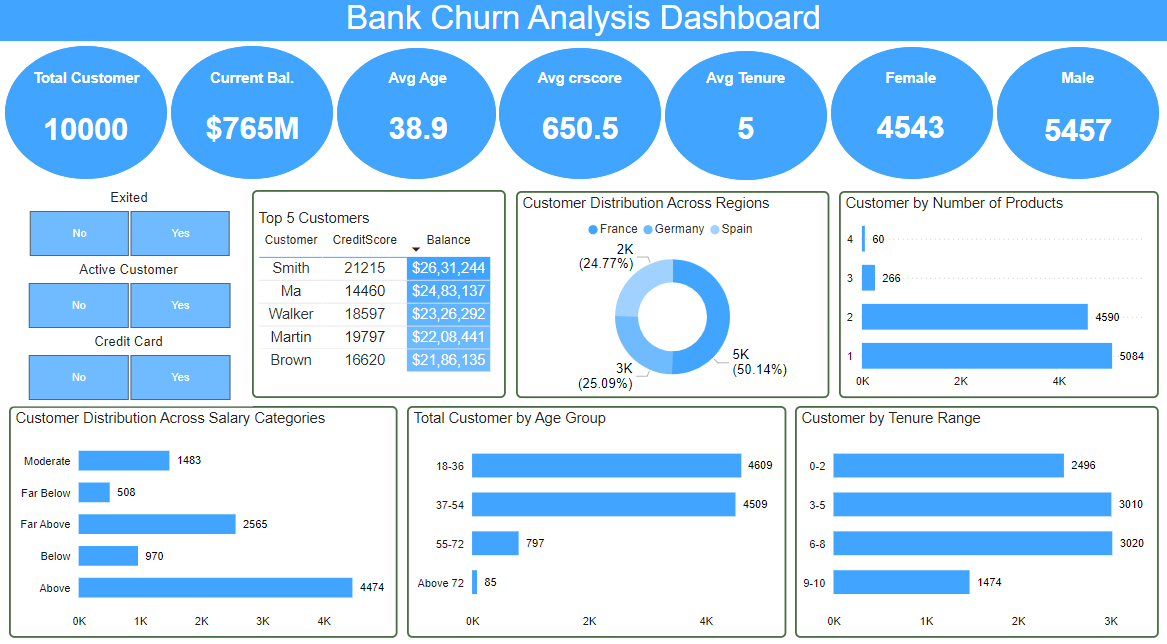

Layout of this report page (visuals, bound fields, positions):
{"tool":"powerbi","page":{"name":"Page 1","canvas":[1280,720],"ordinal":0},"visuals":[{"type":"shape","box":[1091.2,62.2,176.8,144],"z":0},{"type":"shape","box":[910.1,62.2,176.8,144],"z":1000},{"type":"shape","box":[729.3,66.6,176.8,140.8],"z":2000},{"type":"shape","box":[371,63.3,173.5,142.9],"z":3000},{"type":"shape","box":[547.8,63.3,176.8,142.9],"z":4000},{"type":"shape","box":[189.9,61.1,176.8,145.1],"z":5000},{"type":"shape","box":[8.7,61.1,176.8,145.1],"z":6000},{"type":"actionButton","title":"Bank Churn Analysis Dashboard","box":[0,9.8,1280,50.2],"z":7000},{"type":"card","fields":{"Values":["Count(Bank_Churn.CustomerId)"]},"box":[38.2,132,116.8,37.1],"z":8000},{"type":"card","fields":{"Values":["Avg(Bank_Churn.CreditScore)"]},"box":[566.3,125.5,139.7,49.1],"z":9000},{"type":"card","title":"Avg Age","fields":{"Values":["Avg(Bank_Churn.Age)"]},"box":[414.7,126.6,89.5,46.9],"z":10000},{"type":"card","fields":{"Values":["Avg(Bank_Churn.Tenure)"]},"box":[784.6,125.5,64.4,48],"z":11000},{"type":"card","fields":{"Values":["Sum(Bank_Churn.Balance)"]},"box":[210.6,122.2,135.3,54.6],"z":12000},{"type":"actionButton","title":"Total Customer ","box":[31.6,84,130.9,24],"z":13000},{"type":"actionButton","title":"Avg crscore","box":[576.2,84,118.9,24],"z":14000},{"type":"actionButton","title":"Avg Tenure","box":[762.8,84,108,24],"z":15000},{"type":"actionButton","title":"Current Bal.","box":[219.3,84,117.9,24],"z":16000},{"type":"actionButton","title":"Avg Age","box":[399.4,84,118.9,24],"z":17000},{"type":"barChart","title":"Customer Distribution Across Salary Categories","fields":{"Category":["Bank_Churn.Salary Category"],"Y":["CountNonNull(Bank_Churn.CustomerId)"]},"box":[13.1,453.9,424.5,253.2],"z":18000},{"type":"donutChart","title":"Customer Distribution Across Regions","fields":{"Category":["Bank_Churn.Geography"],"Y":["CountNonNull(Bank_Churn.CustomerId)"]},"box":[566.3,219.3,341.6,225.9],"z":19000},{"type":"barChart","title":"Total Customer by Age Group","fields":{"Category":["Bank_Churn.Age (groups)"],"Y":["CountNonNull(Bank_Churn.CustomerId)"]},"box":[447.4,453.9,413.6,253.2],"z":20000},{"type":"barChart","title":"Customer by Tenure Range","fields":{"Category":["Bank_Churn.Tenure (groups)"],"Y":["CountNonNull(Bank_Churn.CustomerId)"]},"box":[870.8,453.9,397.2,253.2],"z":21000},{"type":"slicer","title":"Exited","fields":{"Values":["Bank_Churn.Exited"]},"box":[9.8,218.2,268.4,78.6],"z":22000},{"type":"slicer","title":"Credit Card","fields":{"Values":["Bank_Churn.HasCrCard"]},"box":[8.7,375.4,269.5,78.6],"z":23000},{"type":"slicer","title":"Active Customer","fields":{"Values":["Bank_Churn.IsActiveMember"]},"box":[8.7,296.8,269.5,78.6],"z":25000},{"type":"tableEx","title":"Top 5 Customers","fields":{"Values":["Bank_Churn.Surname","Sum(Bank_Churn.CreditScore)","Sum(Bank_Churn.Balance)"]},"box":[278.3,218.2,277.2,227],"z":26000},{"type":"card","fields":{"Values":["CountNonNull(Bank_Churn.Gender)"]},"box":[933,121.1,127.7,55.7],"z":27000},{"type":"card","fields":{"Values":["CountNonNull(Bank_Churn.Gender)"]},"box":[1107.6,132,144,40.4],"z":28000},{"type":"actionButton","title":"Male","box":[1125.2,83.9,108.4,24.5],"z":28001},{"type":"actionButton","title":"Female","box":[943.2,83.9,108.4,24.5],"z":28002},{"type":"barChart","title":"Customer by Number of Products","fields":{"Category":["Bank_Churn.NumOfProducts"],"Y":["CountNonNull(Bank_Churn.CustomerId)"]},"box":[918.8,219.3,349.2,225.9],"z":28003}]}

Visuals, with their boxes in screenshot pixels (x1, y1, x2, y2), scaled from the page's 1280x720 canvas onto the 1167x644 screenshot:
shape: (995, 56, 1156, 184)
shape: (830, 56, 991, 184)
shape: (665, 60, 826, 186)
shape: (338, 57, 496, 184)
shape: (499, 57, 661, 184)
shape: (173, 55, 334, 184)
shape: (8, 55, 169, 184)
"Bank Churn Analysis Dashboard" actionButton: (0, 9, 1166, 54)
card - Count(Bank_Churn.CustomerId): (35, 118, 141, 151)
card - Avg(Bank_Churn.CreditScore): (516, 112, 644, 156)
"Avg Age" card: (378, 113, 460, 155)
card - Avg(Bank_Churn.Tenure): (715, 112, 774, 155)
card - Sum(Bank_Churn.Balance): (192, 109, 315, 158)
"Total Customer " actionButton: (29, 75, 148, 97)
"Avg crscore" actionButton: (525, 75, 634, 97)
"Avg Tenure" actionButton: (695, 75, 794, 97)
"Current Bal." actionButton: (200, 75, 307, 97)
"Avg Age" actionButton: (364, 75, 473, 97)
"Customer Distribution Across Salary Categories" barChart: (12, 406, 399, 632)
"Customer Distribution Across Regions" donutChart: (516, 196, 828, 398)
"Total Customer by Age Group" barChart: (408, 406, 785, 632)
"Customer by Tenure Range" barChart: (794, 406, 1156, 632)
"Exited" slicer: (9, 195, 254, 265)
"Credit Card" slicer: (8, 336, 254, 406)
"Active Customer" slicer: (8, 265, 254, 336)
"Top 5 Customers" tableEx: (254, 195, 506, 398)
card - CountNonNull(Bank_Churn.Gender): (851, 108, 967, 158)
card - CountNonNull(Bank_Churn.Gender): (1010, 118, 1141, 154)
"Male" actionButton: (1026, 75, 1125, 97)
"Female" actionButton: (860, 75, 959, 97)
"Customer by Number of Products" barChart: (838, 196, 1156, 398)
